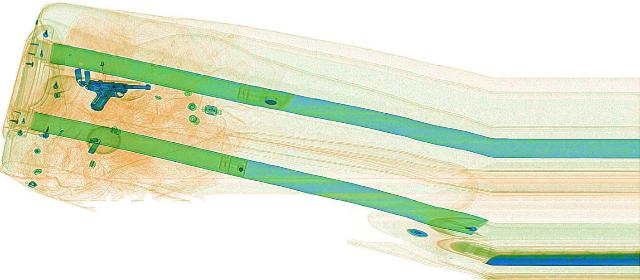Gun: (71, 78, 149, 109)
